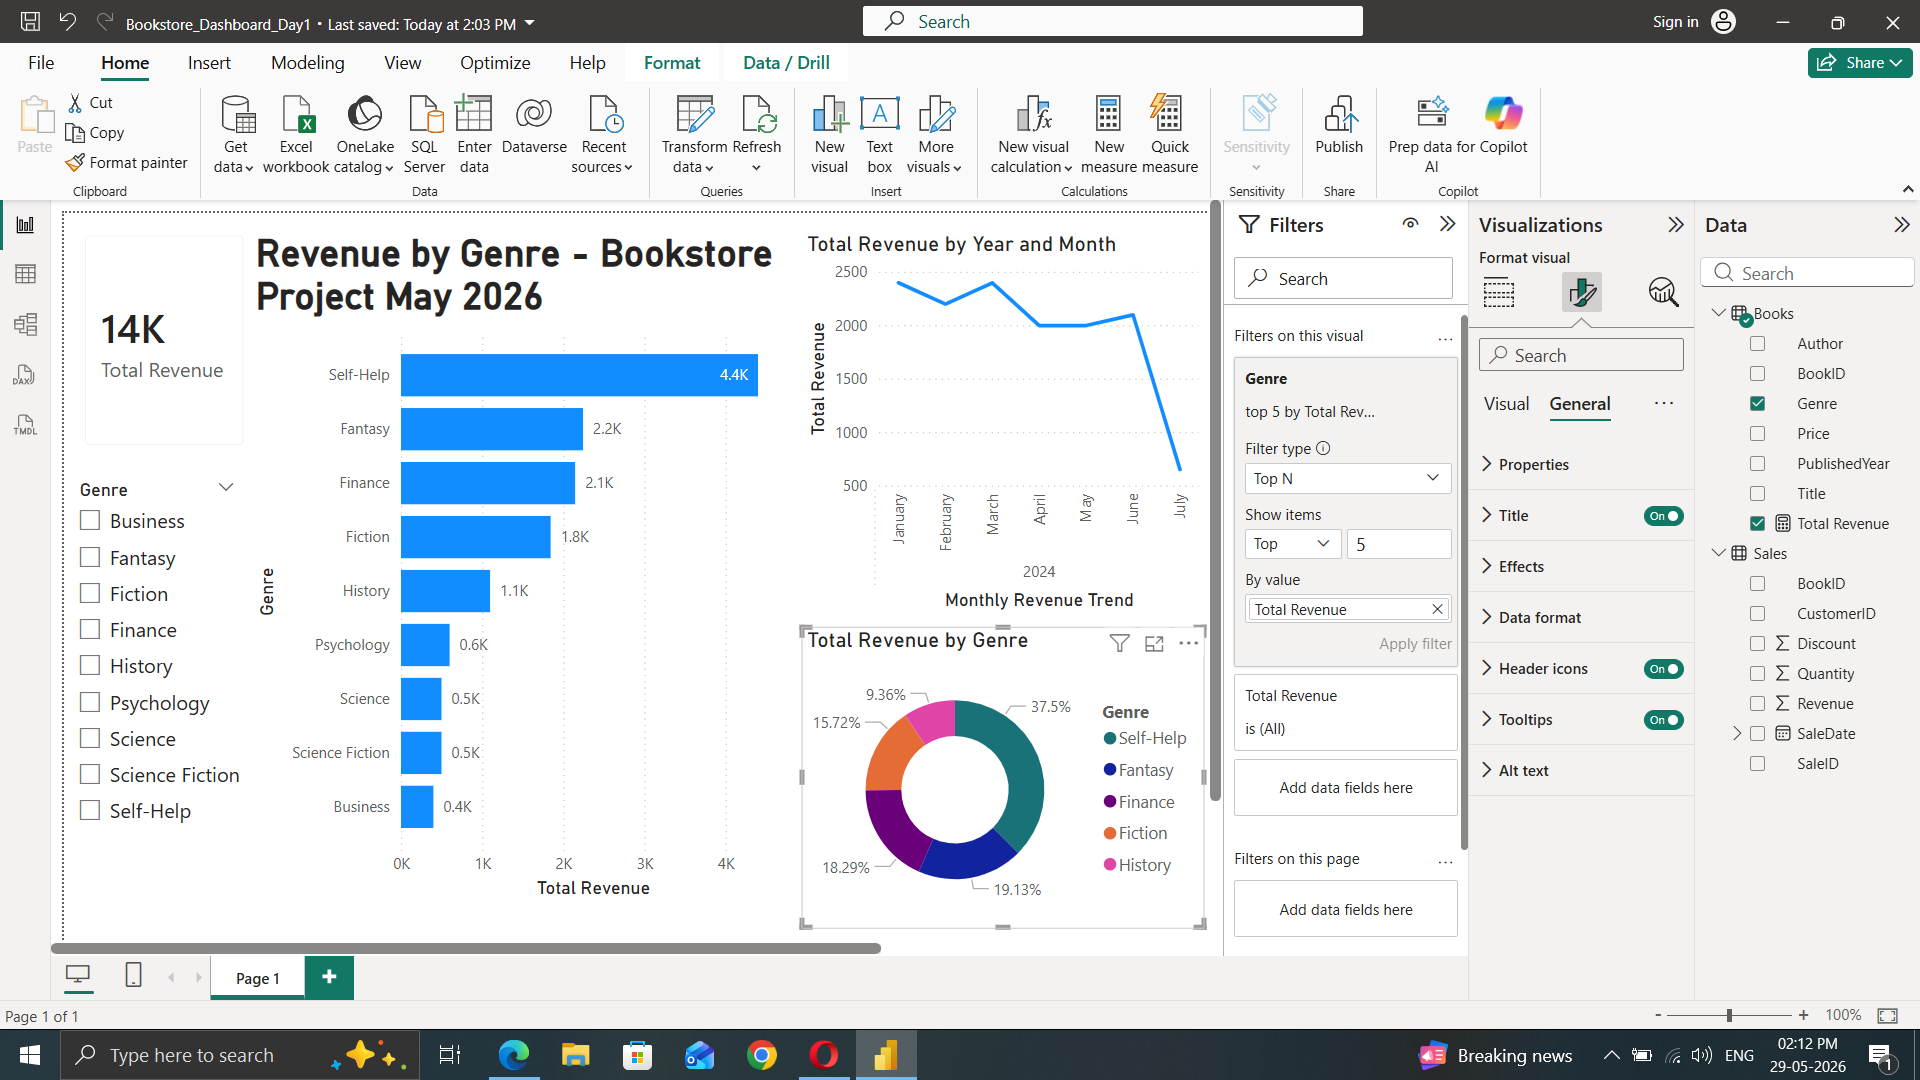

What the dashboard file says about the page in this screenshot:
{"tool":"powerbi","page":{"name":"Page 1","canvas":[1280,720],"ordinal":0},"visuals":[{"type":"cardVisual","fields":{"Data":["Books.Total Revenue"]},"box":[0,13.6,174.7,208.8],"z":0},{"type":"clusteredBarChart","title":"Revenue by Genre - Bookstore  Project May 2026","fields":{"Category":["Books.Genre"],"Y":["Books.Total Revenue"]},"box":[195.2,13.6,491.4,671.5],"z":1000},{"type":"slicer","fields":{"Values":["Books.Genre"]},"box":[25.9,262.1,148.8,305.7],"z":2000},{"type":"lineChart","fields":{"Y":["Books.Total Revenue"],"Category":["Sales.SaleDate.Variation.Date Hierarchy.Year","Sales.SaleDate.Variation.Date Hierarchy.Month"]},"box":[700.2,13.6,570.5,309.8],"z":3000},{"type":"donutChart","fields":{"Category":["Books.Genre"],"Y":["Books.Total Revenue"]},"box":[713.8,333,566.4,387.6],"z":4000}]}

Visuals, with their boxes on the page's 1280x720 design canvas (x1, y1, x2, y2). These are canvas units, not pixel positions in the 1920x1080 screenshot, which may show the page scaled, cropped or inside an application window:
cardVisual - Books.Total Revenue: <region>0, 14, 175, 222</region>
"Revenue by Genre - Bookstore  Project May 2026" clusteredBarChart: <region>195, 14, 687, 685</region>
slicer - Books.Genre: <region>26, 262, 175, 568</region>
lineChart - Books.Total Revenue x Sales.SaleDate.Variation.Date Hierarchy.Year: <region>700, 14, 1271, 323</region>
donutChart - Books.Genre x Books.Total Revenue: <region>714, 333, 1280, 721</region>
